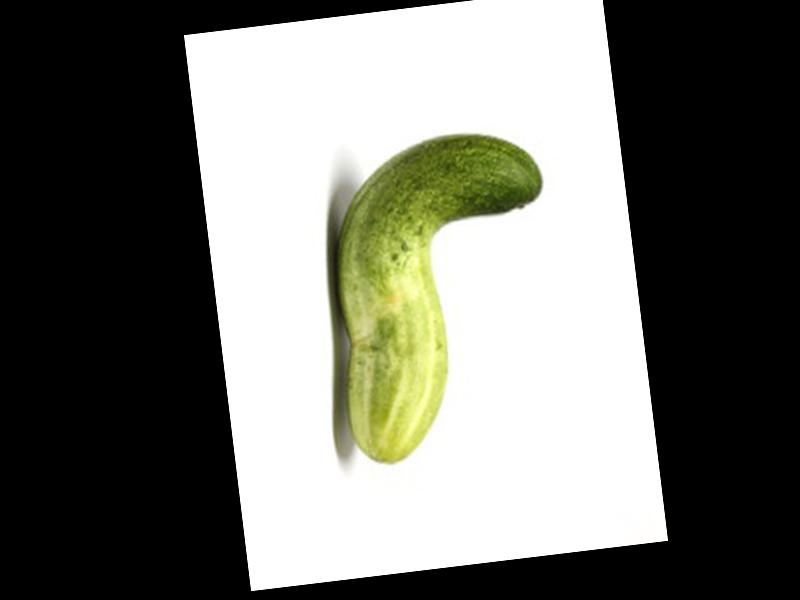Cucumber: (314, 124, 573, 469)
